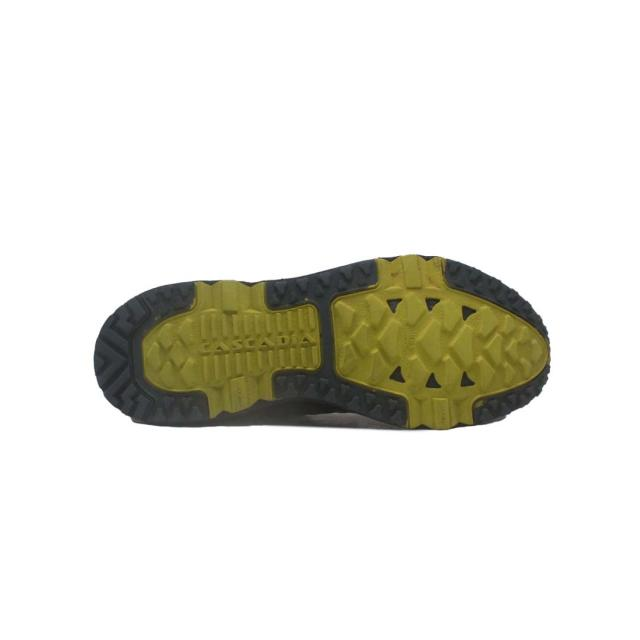outersole: (95, 254, 552, 428)
